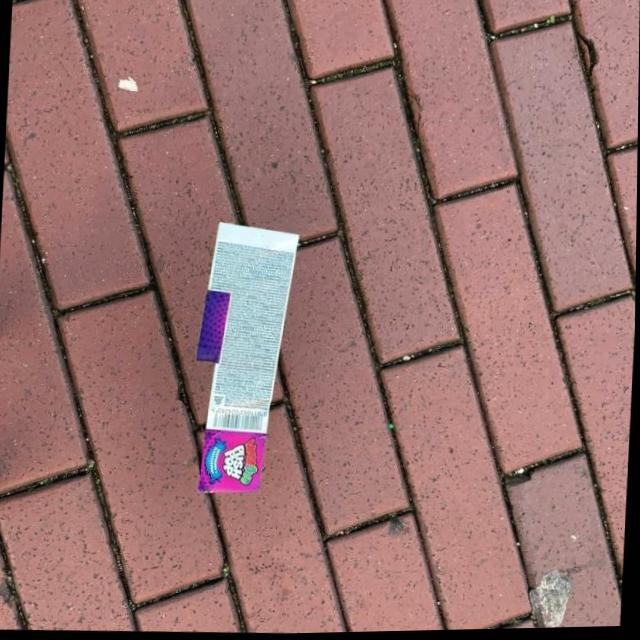Plastic: (186, 219, 301, 498)
